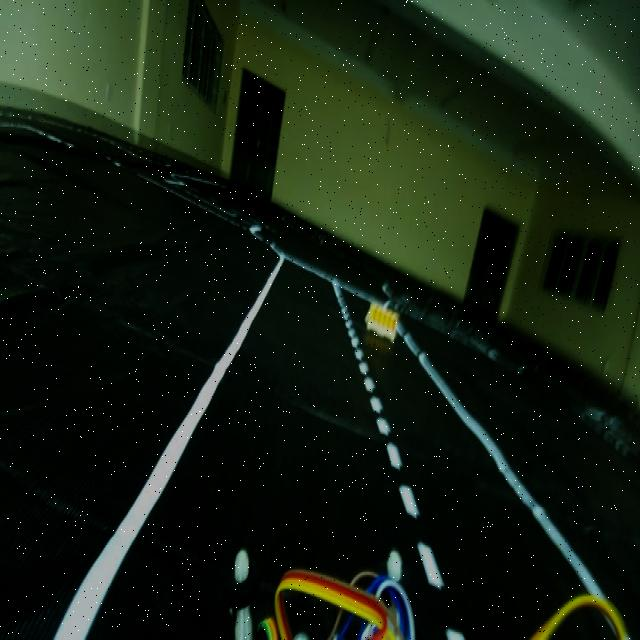roadblock: (363, 292, 403, 352)
